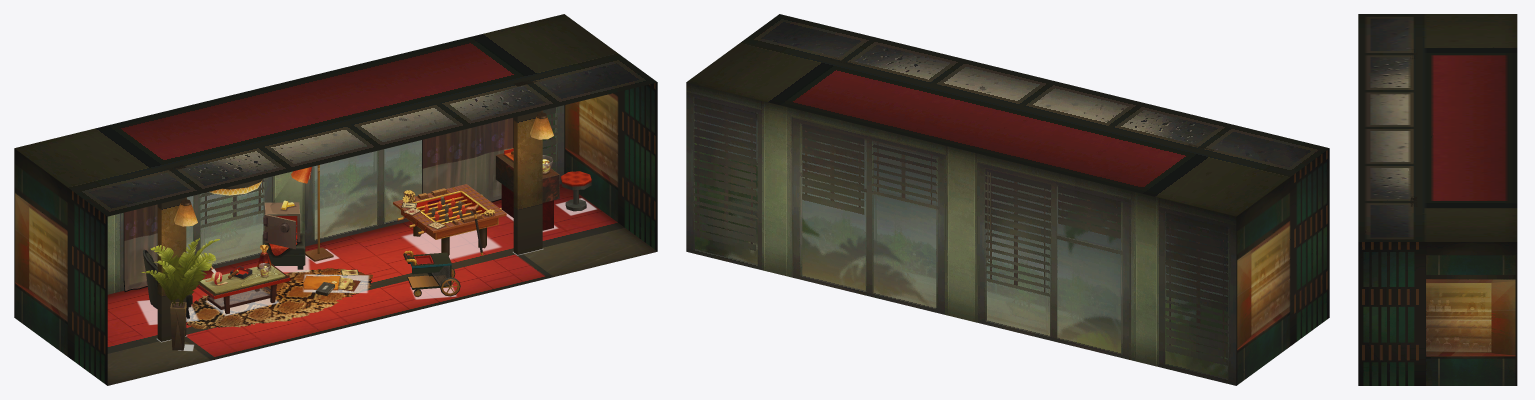
The model's file is gangster.glb.
3 views of the same model, side by side, from view 1: azimuth 30°, elevation 25°; view 2: azimuth 150°, elevation 25°; view 3: azimuth 270°, elevation 25° (orthographic). The views are drawn at different scales.
Visible parts, largest first — view 1: ROOM_room, ROOM_floor, furni_gangster_blinds_03, furni_gangster_carpet_01, furni_gangster_billiards_01, furni_gangster_column_01.001, furni_gangster_safeCase_01, furni_gangster_blinds_02, furni_gangster_teapoy_01, furni_gangster_plant_02, furni_gangster_column_01, furni_gangster_bar_01 (+11 smaller); view 2: ROOM_room, ROOM_LDoor; view 3: ROOM_room, ROOM_RDoor.
Boxes of the visible parts, left/top/right/bottom form: ROOM_room: left=14, top=14, right=657, bottom=385; ROOM_floor: left=107, top=184, right=657, bottom=385; furni_gangster_blinds_03: left=422, top=117, right=513, bottom=202; furni_gangster_carpet_01: left=186, top=268, right=372, bottom=329; furni_gangster_billiards_01: left=393, top=184, right=506, bottom=255; furni_gangster_column_01.001: left=513, top=79, right=542, bottom=254; furni_gangster_safeCase_01: left=262, top=165, right=333, bottom=269; furni_gangster_blinds_02: left=123, top=204, right=157, bottom=291; furni_gangster_teapoy_01: left=197, top=251, right=290, bottom=313; furni_gangster_plant_02: left=141, top=238, right=219, bottom=306; furni_gangster_column_01: left=157, top=165, right=186, bottom=341; furni_gangster_bar_01: left=495, top=148, right=559, bottom=230; ROOM_room: left=686, top=14, right=1329, bottom=385; ROOM_LDoor: left=1297, top=251, right=1315, bottom=341; ROOM_room: left=1358, top=14, right=1517, bottom=385; ROOM_RDoor: left=1381, top=320, right=1414, bottom=385.
Size of the model in its own units: 7.48 by 2.2 by 2.25.
Materials: 7 (7 with a texture image).
